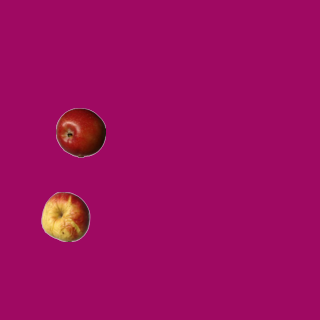Apple Braeburn: (55, 107, 105, 157)
Apple Red Yellow 1: (40, 191, 90, 241)
